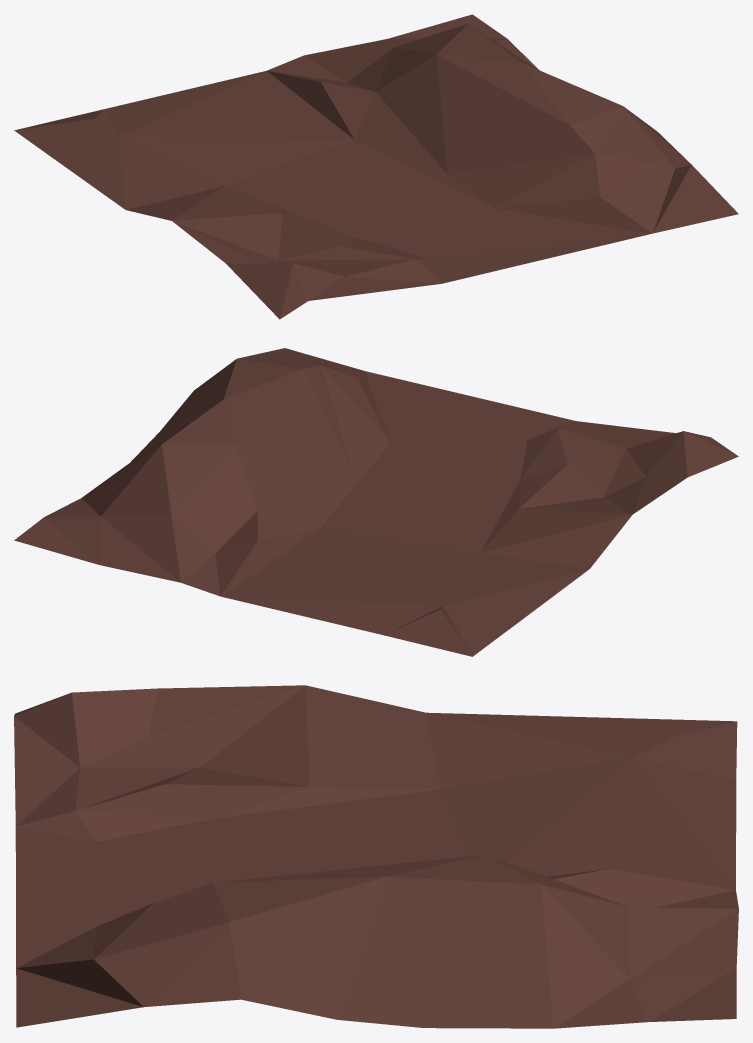
The model's file is ground2_collider.glb.
3 renders of one model, top to bottom at view 1: azimuth 30°, elevation 25°; view 2: azimuth 150°, elevation 25°; view 3: azimuth 270°, elevation 25°, orthographic. The views are drawn at different scales.
Parts seen in each view (by area): view 1: Plane.001; view 2: Plane.001; view 3: Plane.001.
Boxes of the visible parts, box(x1,y1,x2,y2) form: Plane.001: box(14, 14, 738, 319); Plane.001: box(14, 348, 738, 656); Plane.001: box(14, 685, 738, 1028).
Size of the model in its own units: 20.2 by 3.03 by 20.14.
Materials: 1 (1 with a texture image).
